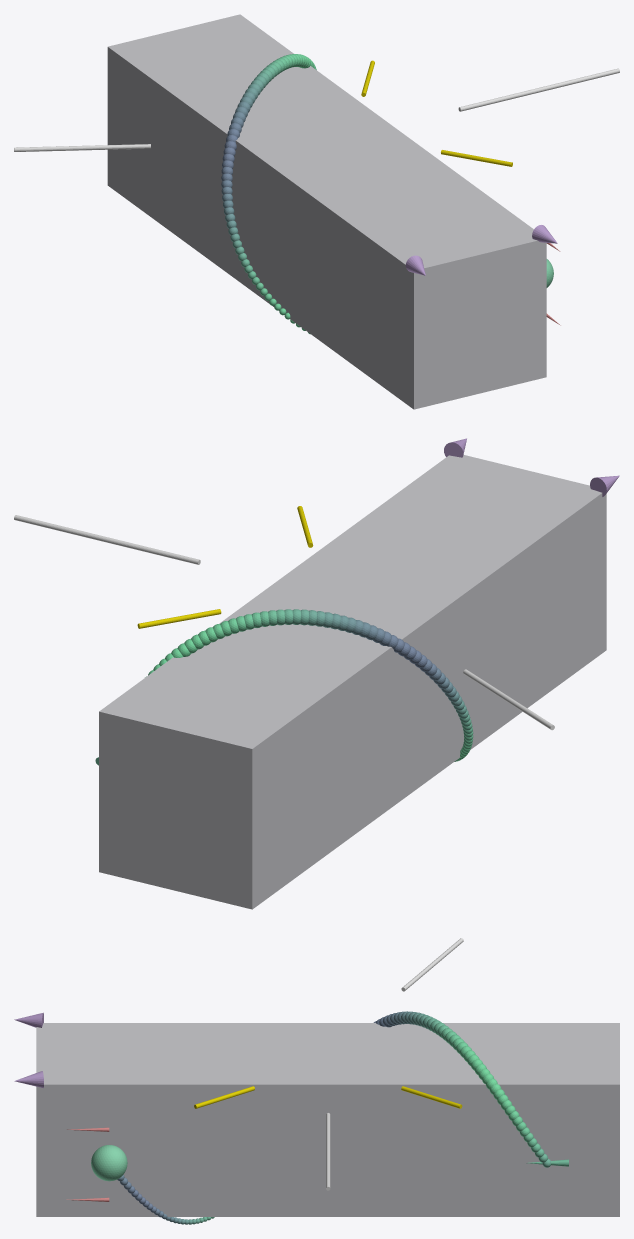
The model's file is pillar_serpent_egg_rainbowii.glb.
3 views of the same model, one above another, from view 1: azimuth 30°, elevation 25°; view 2: azimuth 150°, elevation 25°; view 3: azimuth 270°, elevation 25° (orthographic). The views are drawn at different scales.
Parts seen in each view (by area): view 1: Pillar_ANU, Glyph_Z_1, Glyph_Z_2; view 2: Pillar_ANU, Glyph_Z_2; view 3: Pillar_ANU, Serpent_Head.
Boxes of the visible parts, x1,y1,x2,y2 form: Pillar_ANU: (107,14,546,409); Glyph_Z_1: (14,144,150,151); Glyph_Z_2: (458,81,566,111); Pillar_ANU: (99,455,606,909); Glyph_Z_2: (75,530,200,564); Pillar_ANU: (36,1023,619,1216); Serpent_Head: (91,1145,127,1181).
Bounding box in the file's own units: 8.08 × 2.93 × 8.31.
